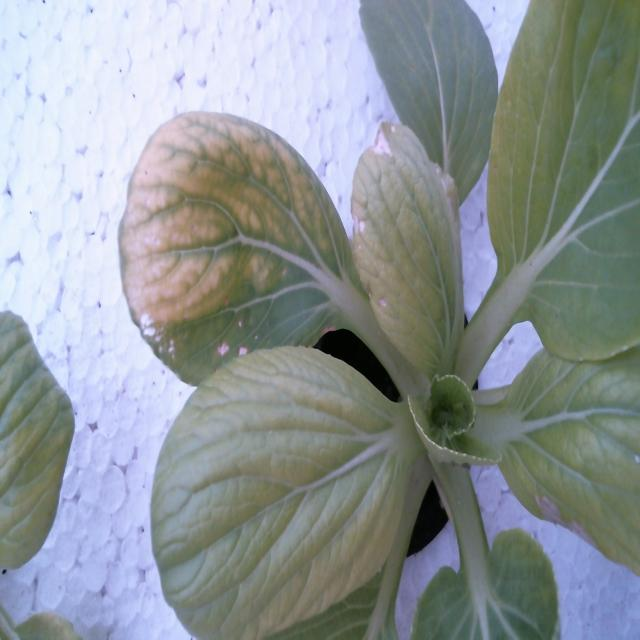pakcoy_tidak_sehat: (113, 0, 640, 640)
